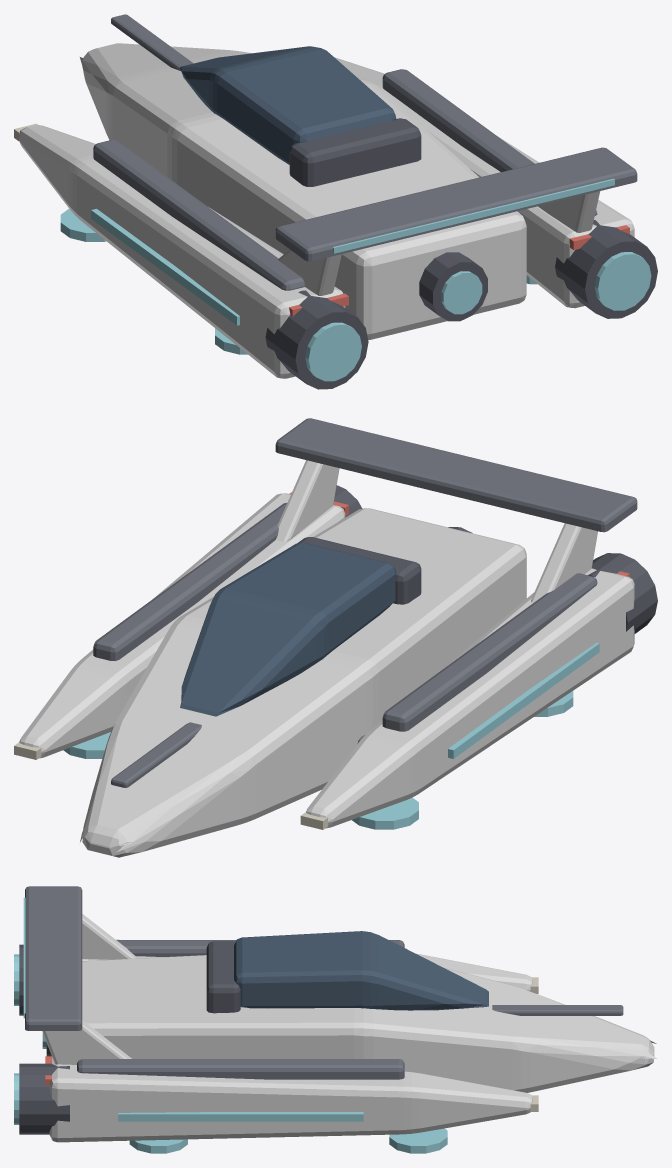
File: hovercar-m39.glb
3 renders of one model, top to bottom at view 1: azimuth 30°, elevation 25°; view 2: azimuth 150°, elevation 25°; view 3: azimuth 270°, elevation 25°, orthographic. The views are drawn at different scales.
Visible parts, largest first — view 1: hovercar_paint, hovercar_body, hovercar_glow; view 2: hovercar_paint, hovercar_body, hovercar_glow; view 3: hovercar_paint, hovercar_body, hovercar_glow.
Part boxes in pixels (x1=…): hovercar_paint: x1=18, y1=43, x2=634, y2=378; hovercar_body: x1=93, y1=14, x2=657, y2=389; hovercar_glow: x1=14, y1=123, x2=651, y2=381; hovercar_paint: x1=19, y1=460, x2=634, y2=857; hovercar_body: x1=93, y1=418, x2=657, y2=787; hovercar_glow: x1=14, y1=492, x2=629, y2=829; hovercar_paint: x1=42, y1=914, x2=657, y2=1142; hovercar_body: x1=19, y1=886, x2=623, y2=1134; hovercar_glow: x1=14, y1=897, x2=538, y2=1153.
Size of the model in its own units: 2.58 by 1.06 by 4.71.
